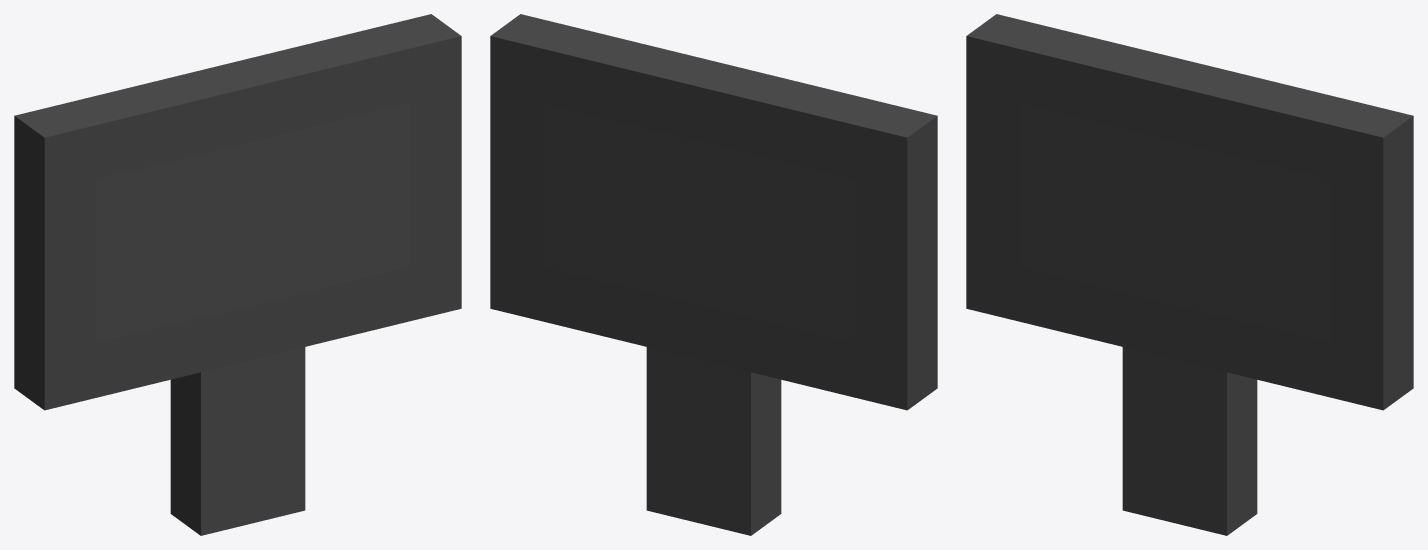
Rendered from restaurant-3-menu.obj.
The picture shows the model from 3 angles, left to right: view 1: azimuth 30°, elevation 25°; view 2: azimuth 150°, elevation 25°; view 3: azimuth 330°, elevation 25°; orthographic projection.
Visible parts, largest first — view 1: menu; view 2: menu; view 3: menu.
Part boxes in pixels (<box>): menu: <box>14,14,461,535</box>; menu: <box>490,14,937,535</box>; menu: <box>966,14,1413,535</box>.
Bounding box in the file's own units: 0.8 × 0.8 × 0.1.
Materials: 1 (1 with a texture image).
